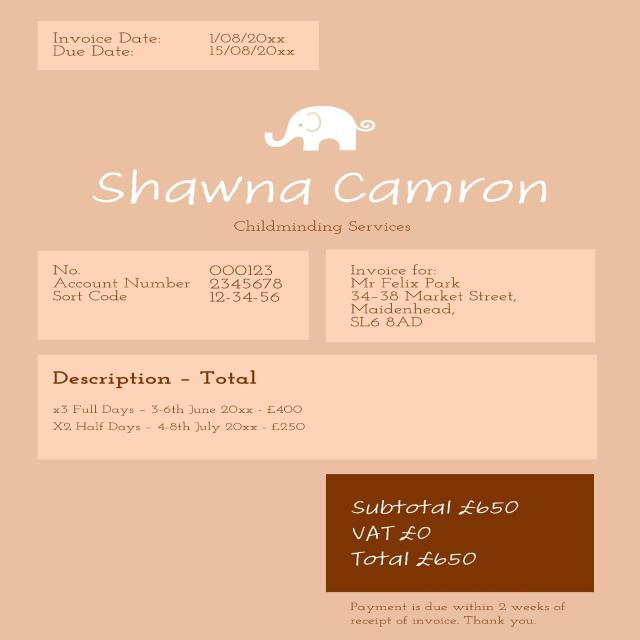paragraph: (86, 157, 558, 238), (38, 364, 325, 446), (36, 252, 305, 328), (349, 488, 530, 570), (340, 256, 521, 335), (337, 590, 579, 640), (32, 26, 308, 65)
